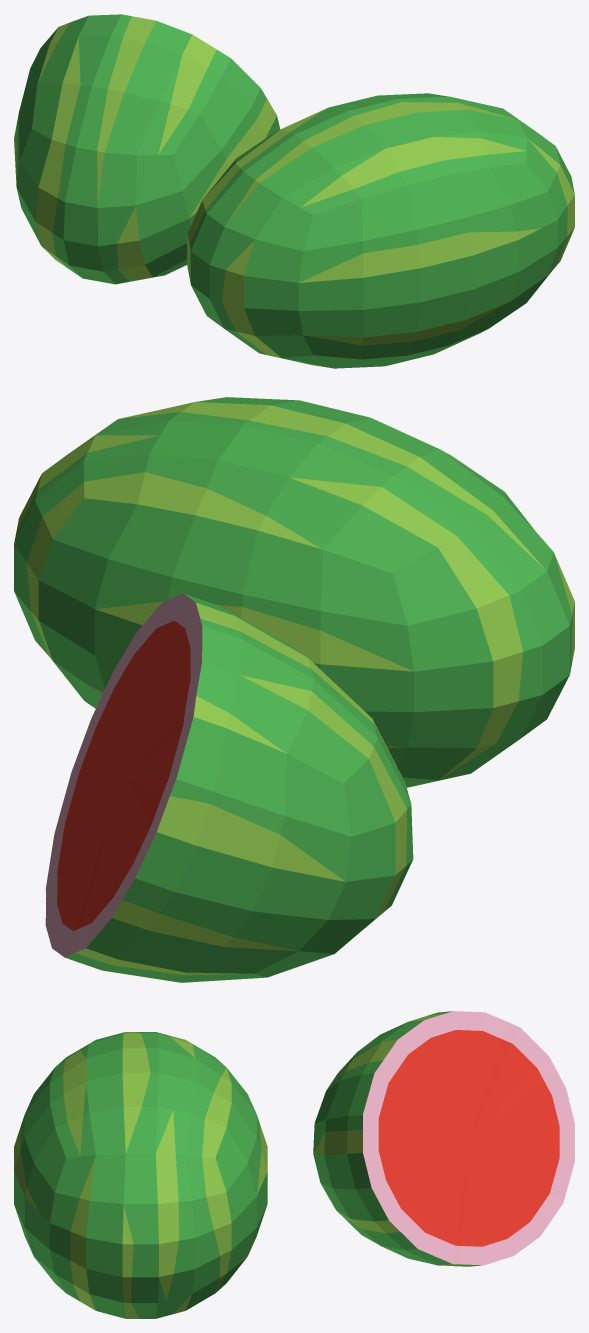
Rendered from Watermelon.glb.
3 renders of one model, top to bottom at view 1: azimuth 30°, elevation 25°; view 2: azimuth 150°, elevation 25°; view 3: azimuth 270°, elevation 25°, orthographic. The views are drawn at different scales.
Visible parts, largest first — view 1: Roundcube.004; view 2: Roundcube.004; view 3: Roundcube.004.
Boxes of the visible parts, x1,y1,x2,y2 form: Roundcube.004: (14, 14, 574, 368); Roundcube.004: (14, 397, 574, 982); Roundcube.004: (14, 1011, 574, 1318).
Size of the model in its own units: 8.34 by 4.95 by 10.79.
